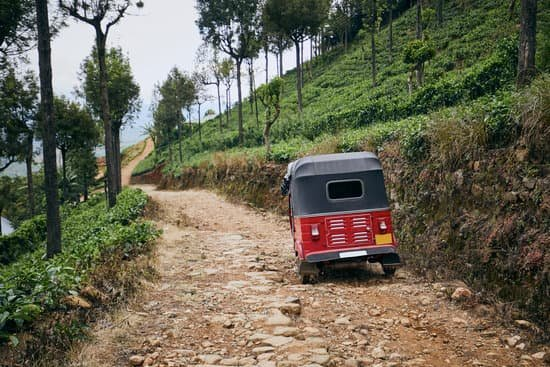threewheel: (281, 150, 401, 285)
